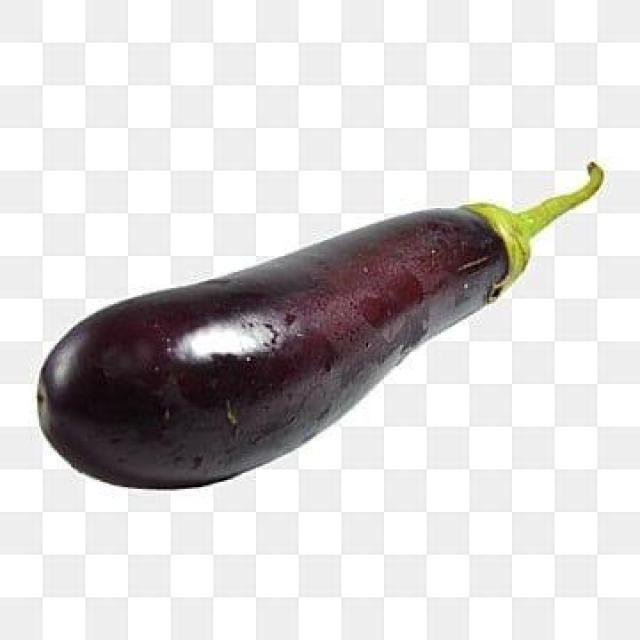eggplant: (35, 160, 603, 488)
